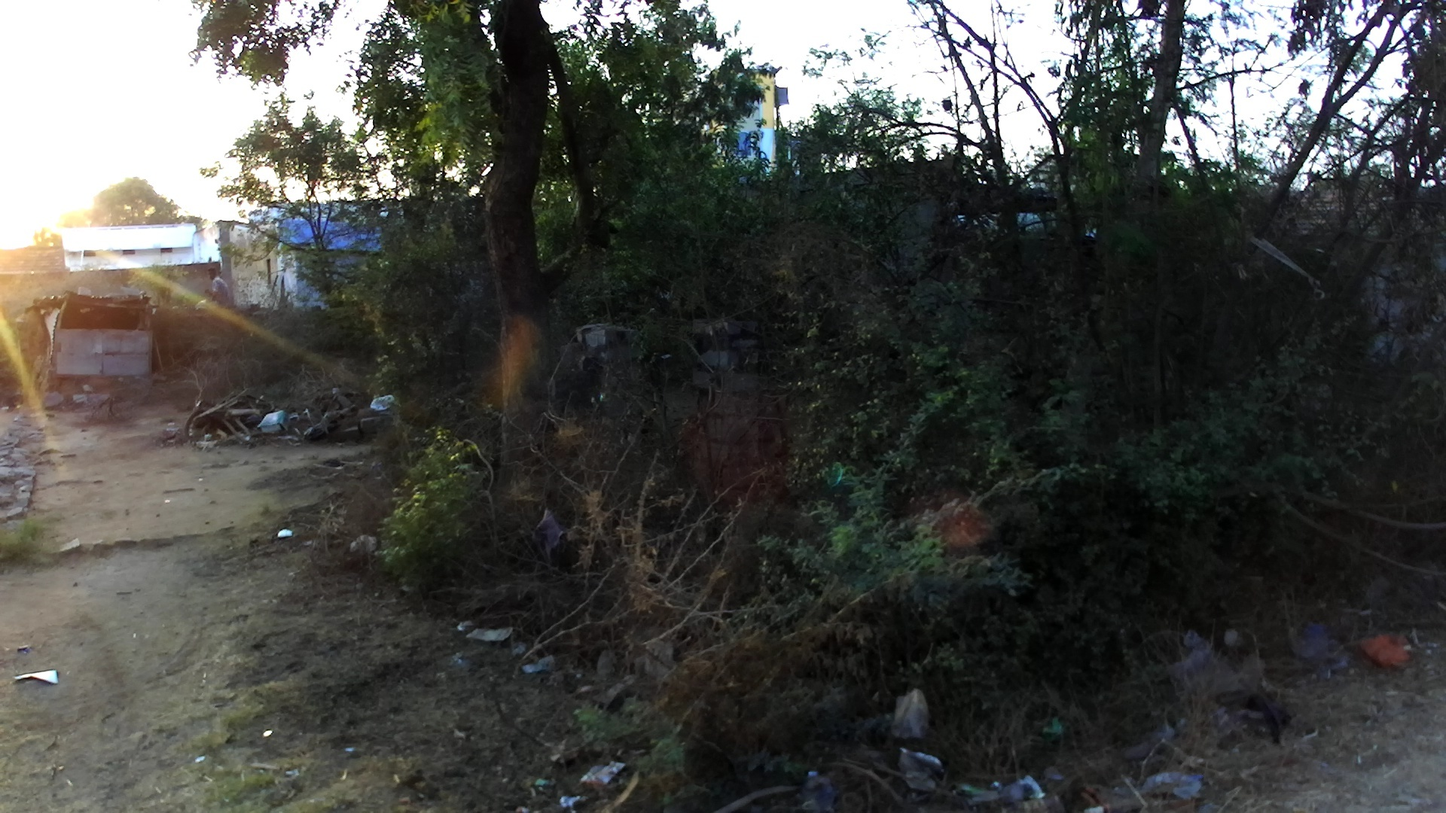person: (195, 268, 228, 310)
